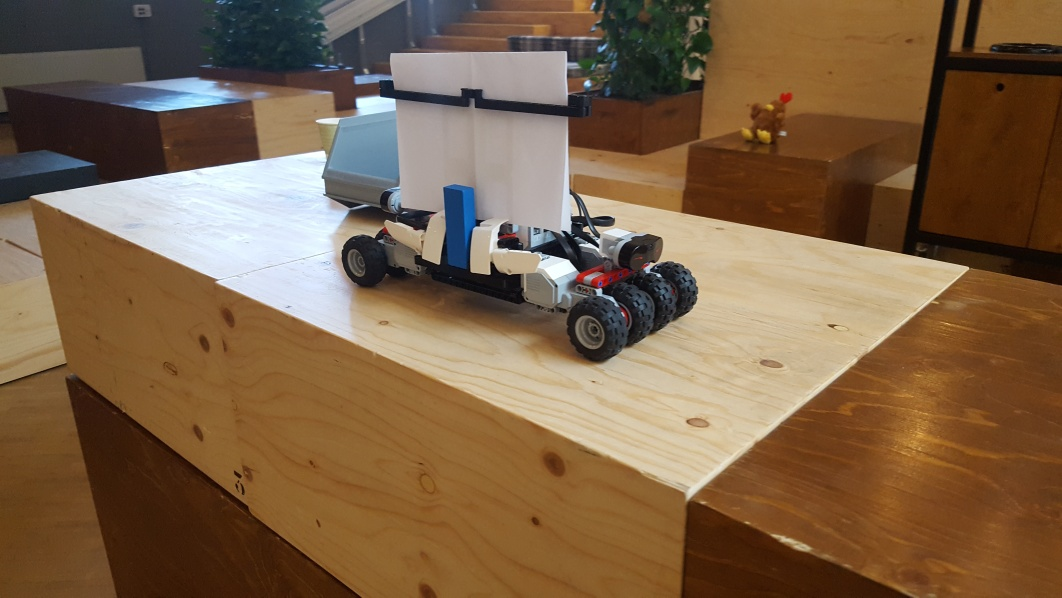car: (341, 49, 698, 360)
chicken: (742, 93, 795, 141)
tray: (322, 112, 402, 207)
